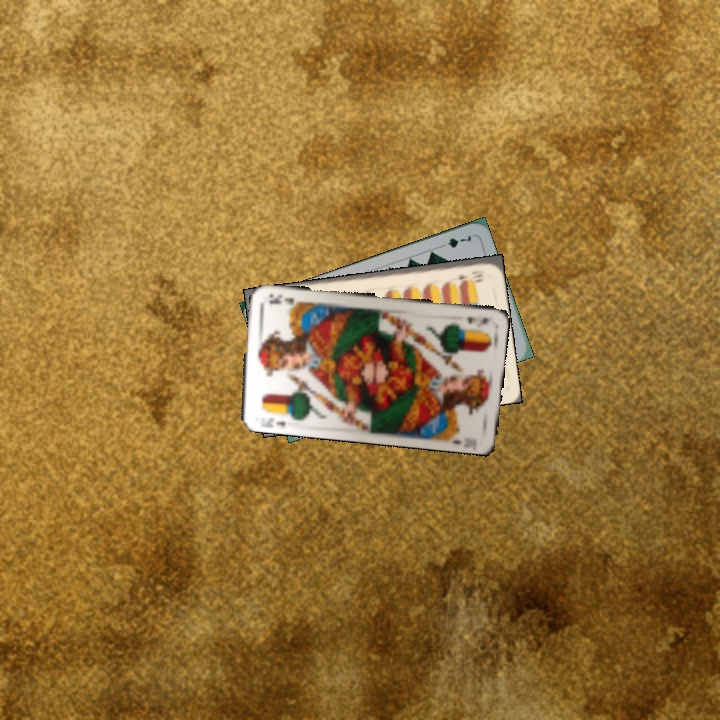E10: (454, 266, 486, 283)
EK: (258, 413, 288, 429), (461, 313, 492, 327)
G7: (435, 229, 474, 251)
